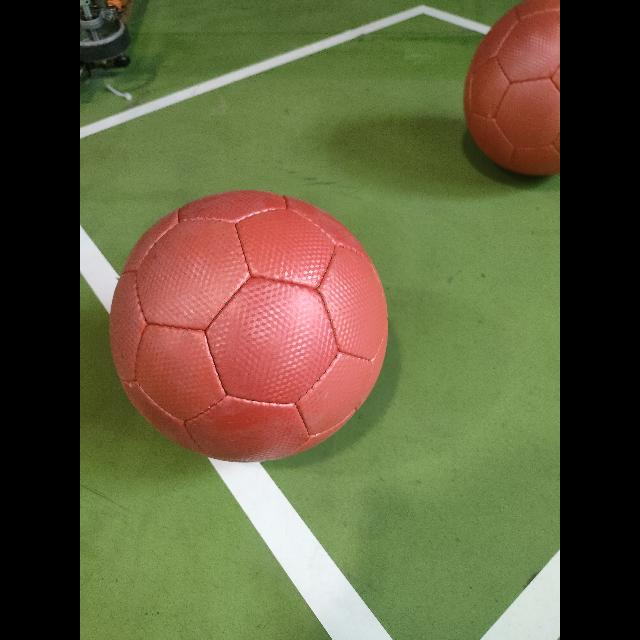R: (110, 191, 388, 461), (463, 1, 559, 178)
